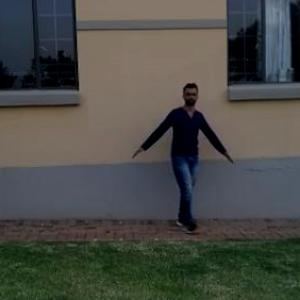land: (126, 87, 228, 242)
